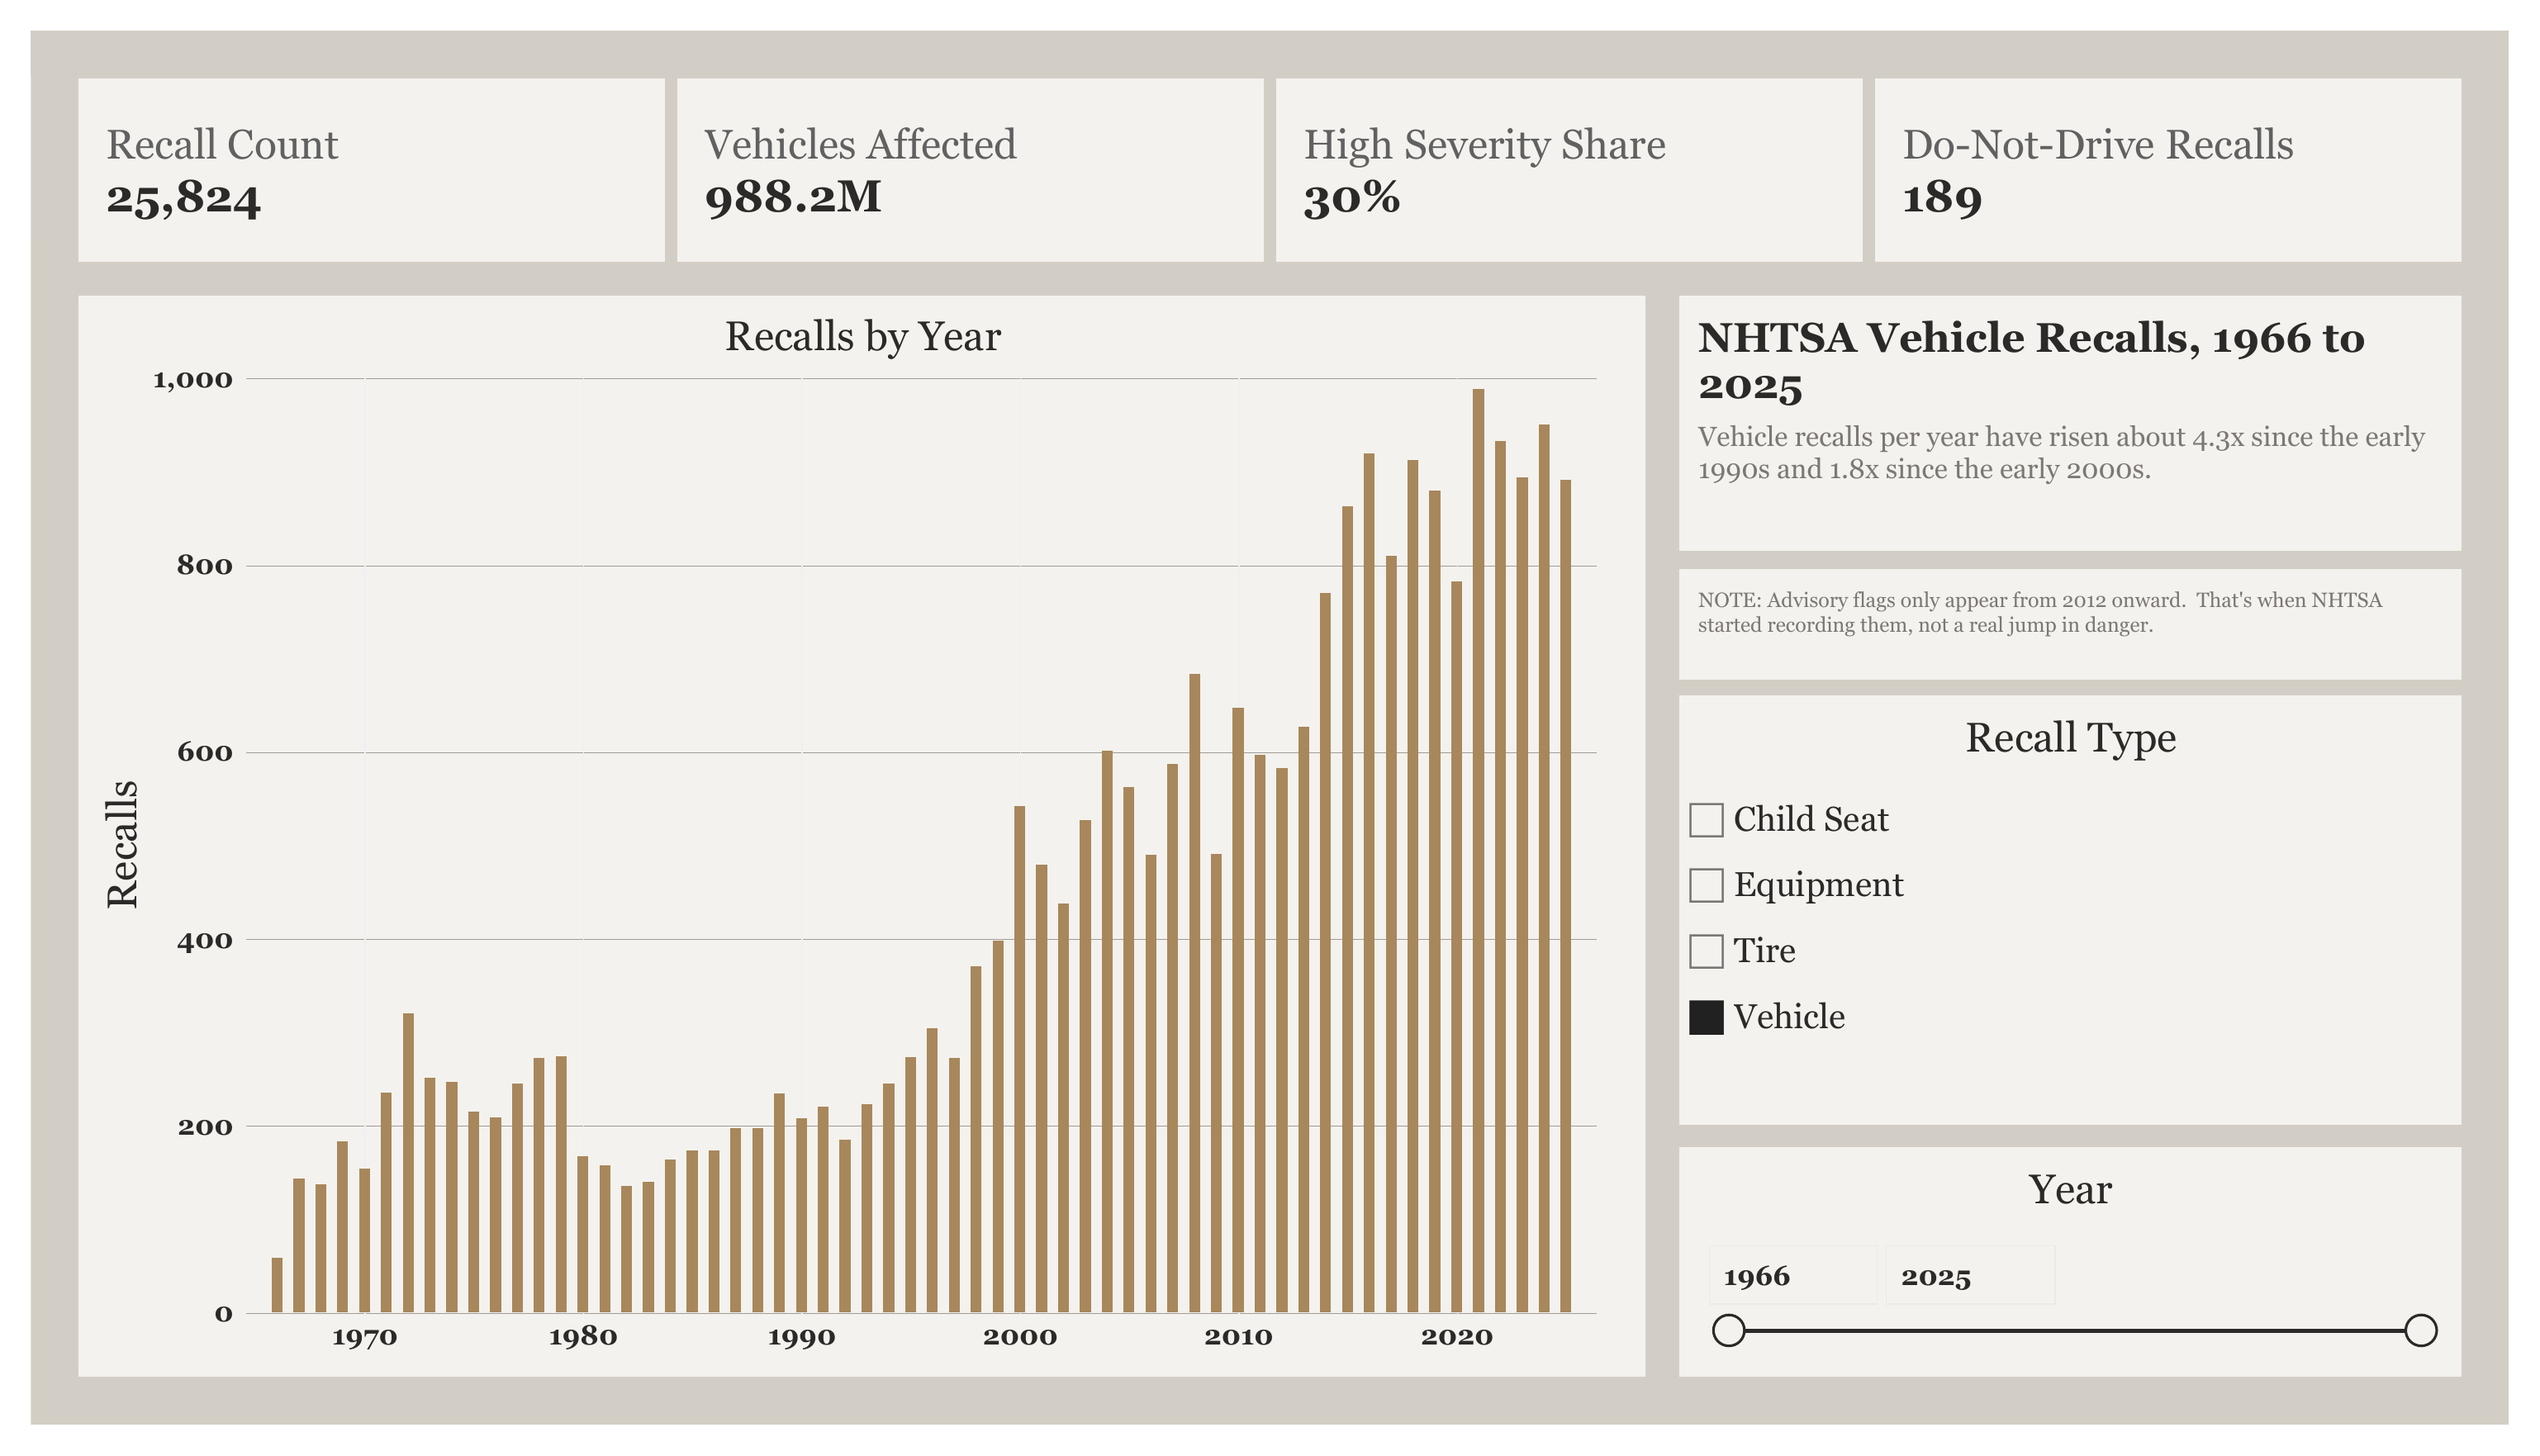

This screenshot's page, from the dashboard's own definition file:
{"tool":"powerbi","page":{"name":"Recall Landing","canvas":[1920,1080],"ordinal":0},"visuals":[{"type":"clusteredColumnChart","title":"Recalls by Year","fields":{"Category":["Date.Year"],"Y":["_Measures.Recall Count"]},"box":[36,204,1216,840],"z":0},{"type":"slicer","title":"Year","fields":{"Values":["Date.Year"]},"box":[1276,864,608,180],"z":1000},{"type":"slicer","title":"Recall Type","fields":{"Values":["recalls.recall_type"]},"box":[1276.2,513.8,607.5,335],"z":2000},{"type":"cardVisual","fields":{"Data":["_Measures.Recall Count","_Measures.Vehicles Affected","_Measures.High Severity Share","_Measures.Do-Not-Drive Recalls"]},"box":[36,36,1848,144],"z":3000},{"type":"cardVisual","fields":{"Data":["_Measures.Page Title"]},"box":[1276,204,608,200],"z":4001},{"type":"textbox","box":[1276,416,608,88],"z":4002}]}

Visuals, with their boxes on the page's 1920x1080 design canvas (x1, y1, x2, y2). These are canvas units, not pixel positions in the 2540x1456 screenshot, which may show the page scaled, cropped or inside an application window:
"Recalls by Year" clusteredColumnChart: <box>36,204,1252,1044</box>
"Year" slicer: <box>1276,864,1884,1044</box>
"Recall Type" slicer: <box>1276,514,1884,849</box>
cardVisual - _Measures.Recall Count x _Measures.Vehicles Affected: <box>36,36,1884,180</box>
cardVisual - _Measures.Page Title: <box>1276,204,1884,404</box>
textbox: <box>1276,416,1884,504</box>
